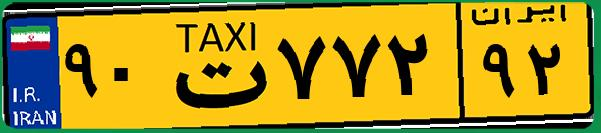0: (110, 28, 158, 98)
2: (385, 28, 445, 110), (525, 38, 570, 115)
7: (270, 28, 330, 110), (330, 28, 385, 110)
9: (57, 26, 110, 100), (475, 38, 525, 113)
ت: (158, 12, 270, 120)
